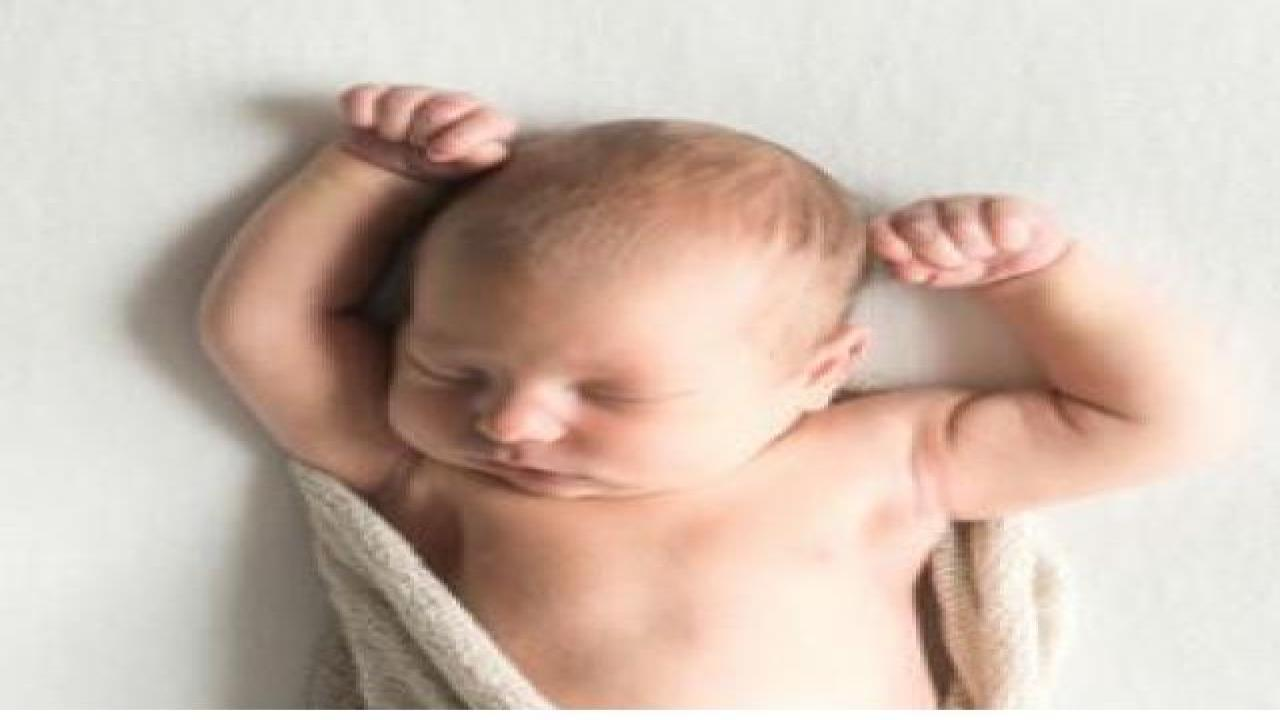hand: (862, 195, 1065, 288), (338, 86, 517, 169)
